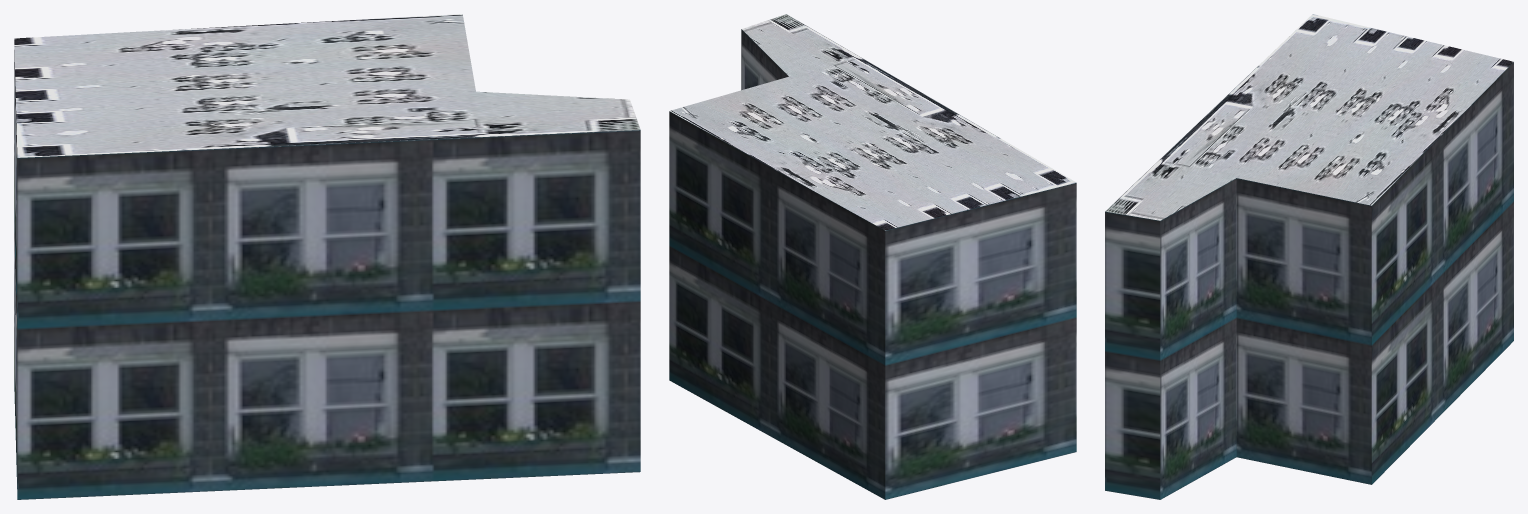
File: ResTex__4581.fbx
The picture shows the model from 3 angles, left to right: view 1: azimuth 30°, elevation 25°; view 2: azimuth 150°, elevation 25°; view 3: azimuth 270°, elevation 25°; orthographic projection. The views are drawn at different scales.
Visible parts, largest first — view 1: CityEngineMaterial_11_m, CityEngineMaterial_4_m; view 2: CityEngineMaterial_11_m, CityEngineMaterial_4_m; view 3: CityEngineMaterial_11_m, CityEngineMaterial_4_m.
Boxes of the visible parts, <box> form: CityEngineMaterial_11_m: <box>14,50,640,499</box>; CityEngineMaterial_4_m: <box>14,14,640,157</box>; CityEngineMaterial_11_m: <box>669,29,1076,499</box>; CityEngineMaterial_4_m: <box>669,14,1076,230</box>; CityEngineMaterial_11_m: <box>1105,62,1513,499</box>; CityEngineMaterial_4_m: <box>1105,14,1513,220</box>.
Size of the model in its own units: 9.53 by 6 by 7.97.
Materials: 2 (2 with a texture image).
